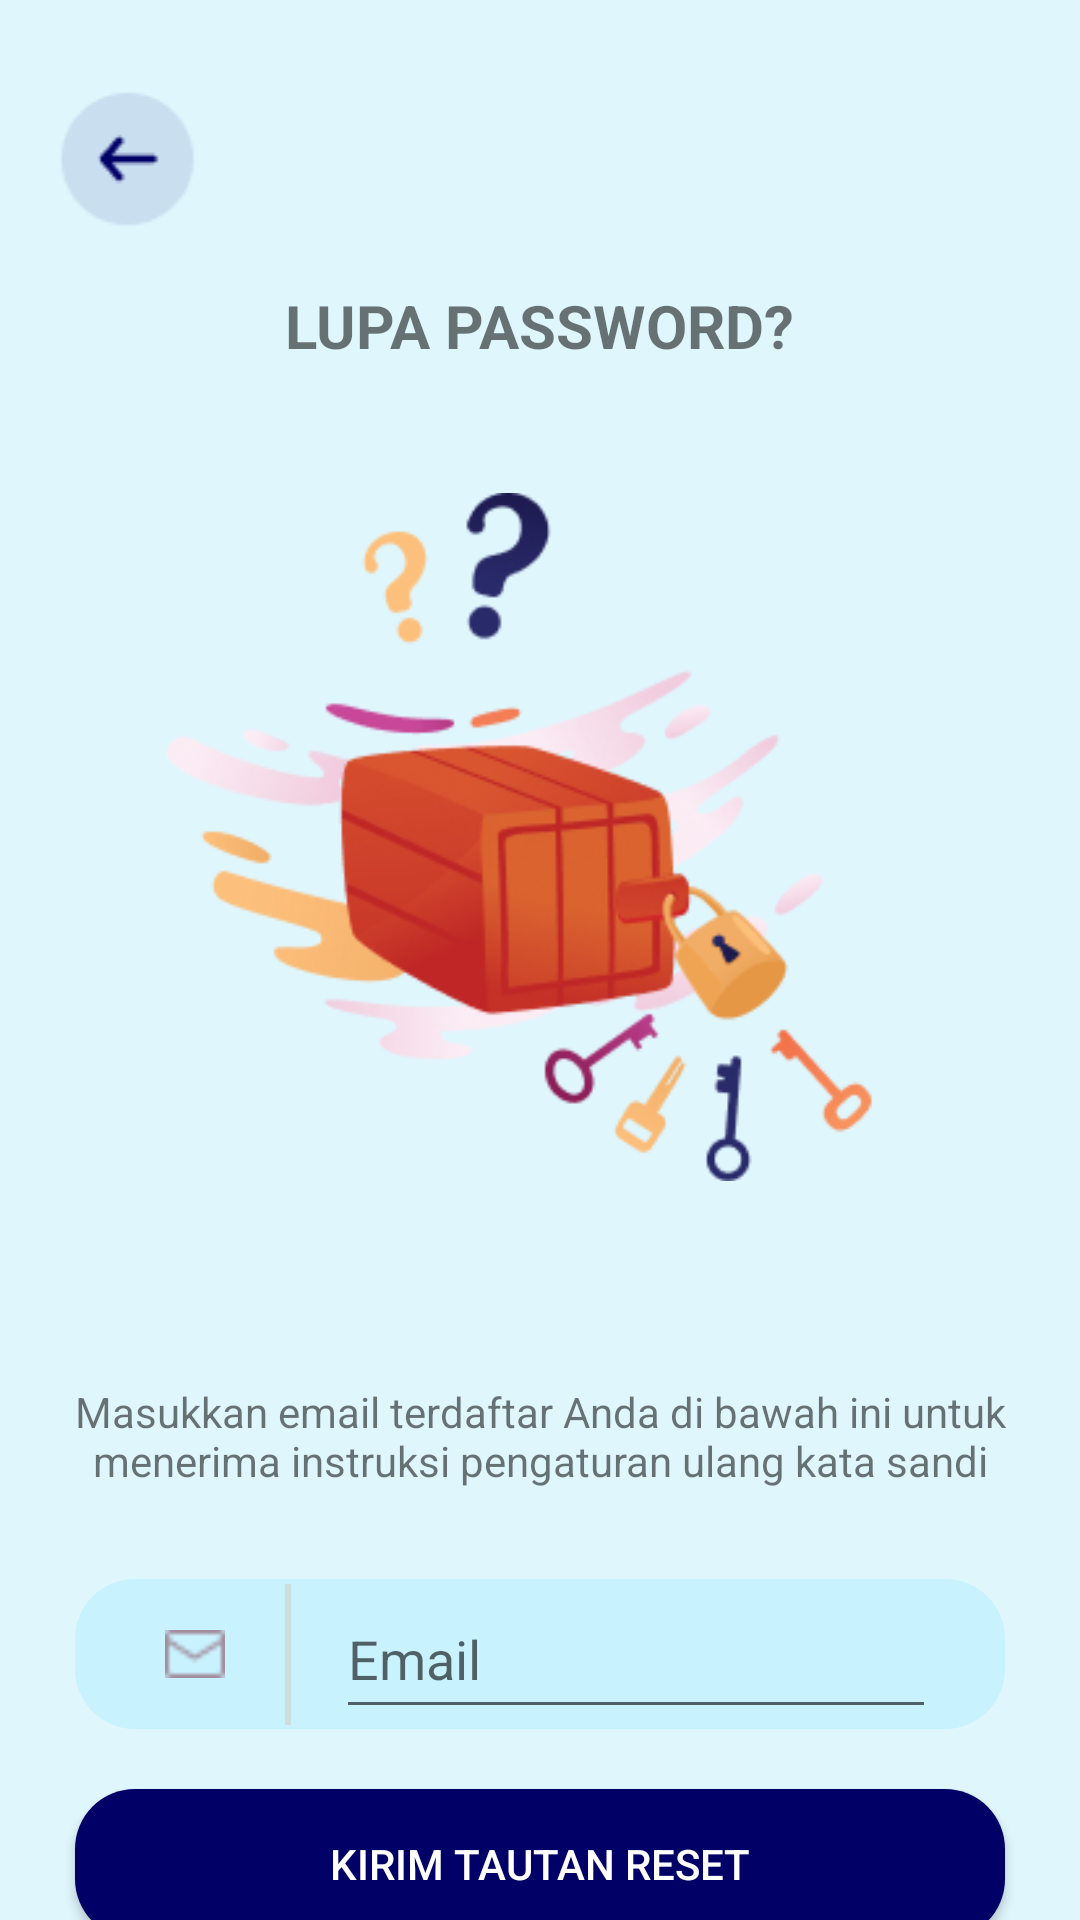

Icon bounding boxes for this 1080w x 1920h phone screenshot, format (x1, y1, x2, y2):
back: (61, 93, 194, 225)
